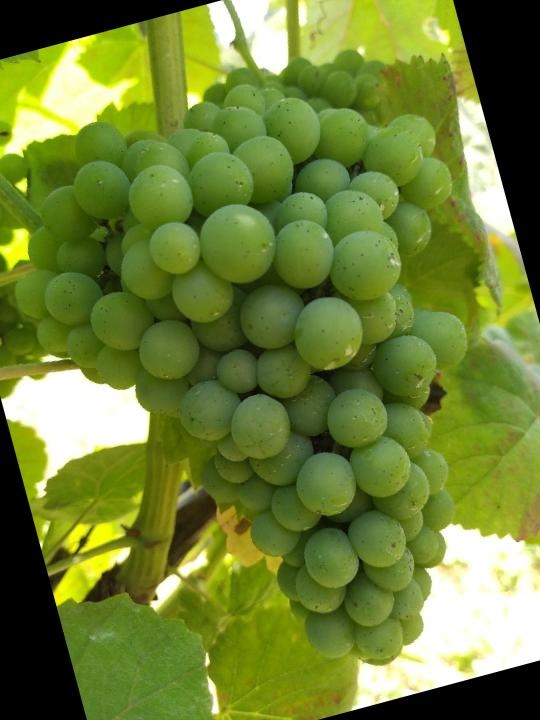grape: (0, 35, 540, 720)
